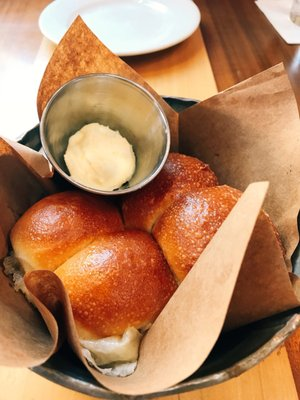sushi: (37, 72, 176, 197)
